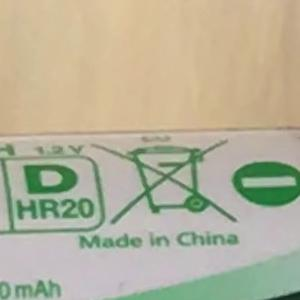keyword: (9, 189, 101, 228)
